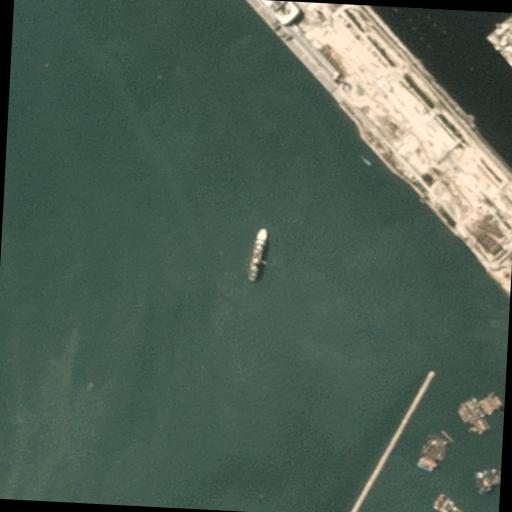ship: (244, 228, 268, 284)
